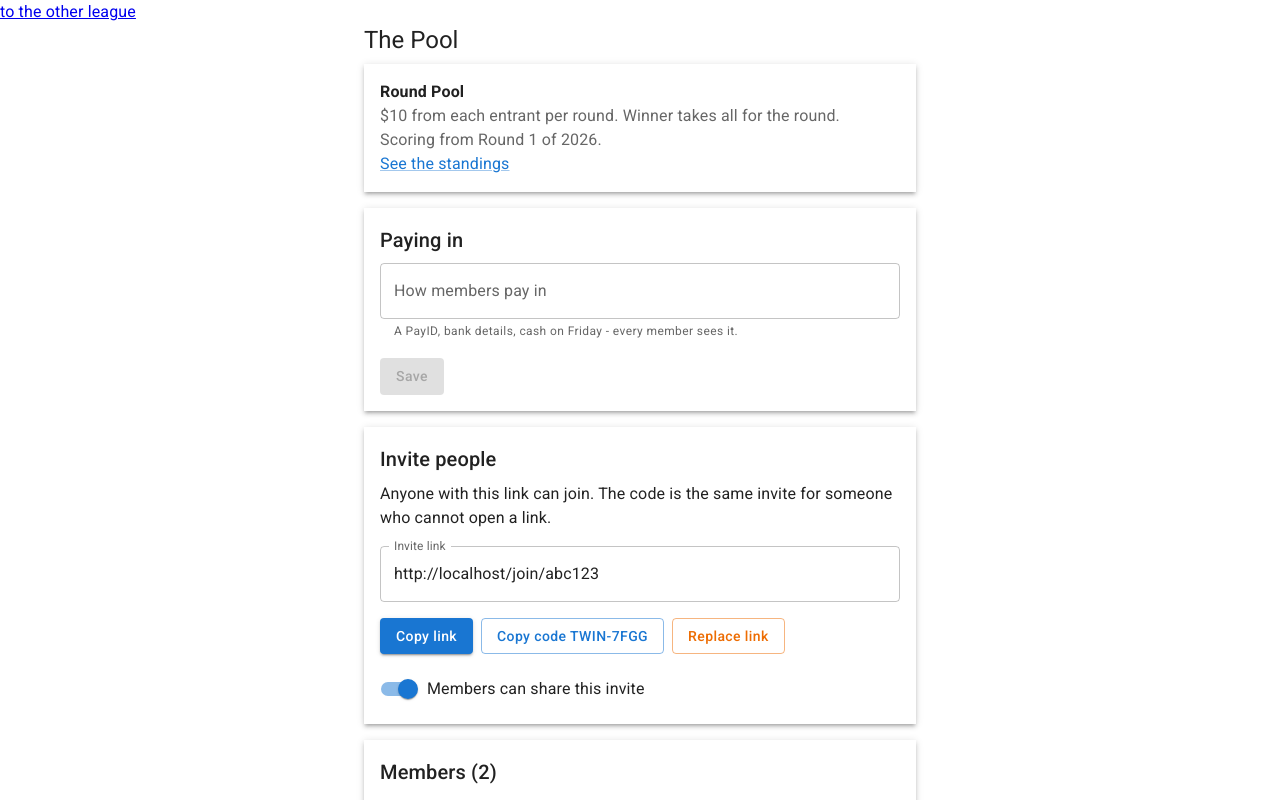
Test: replacing the invite › it asks first, saying who it stops
Click the button "Replace link". click: [728, 636]
box: [672,618,785,654]
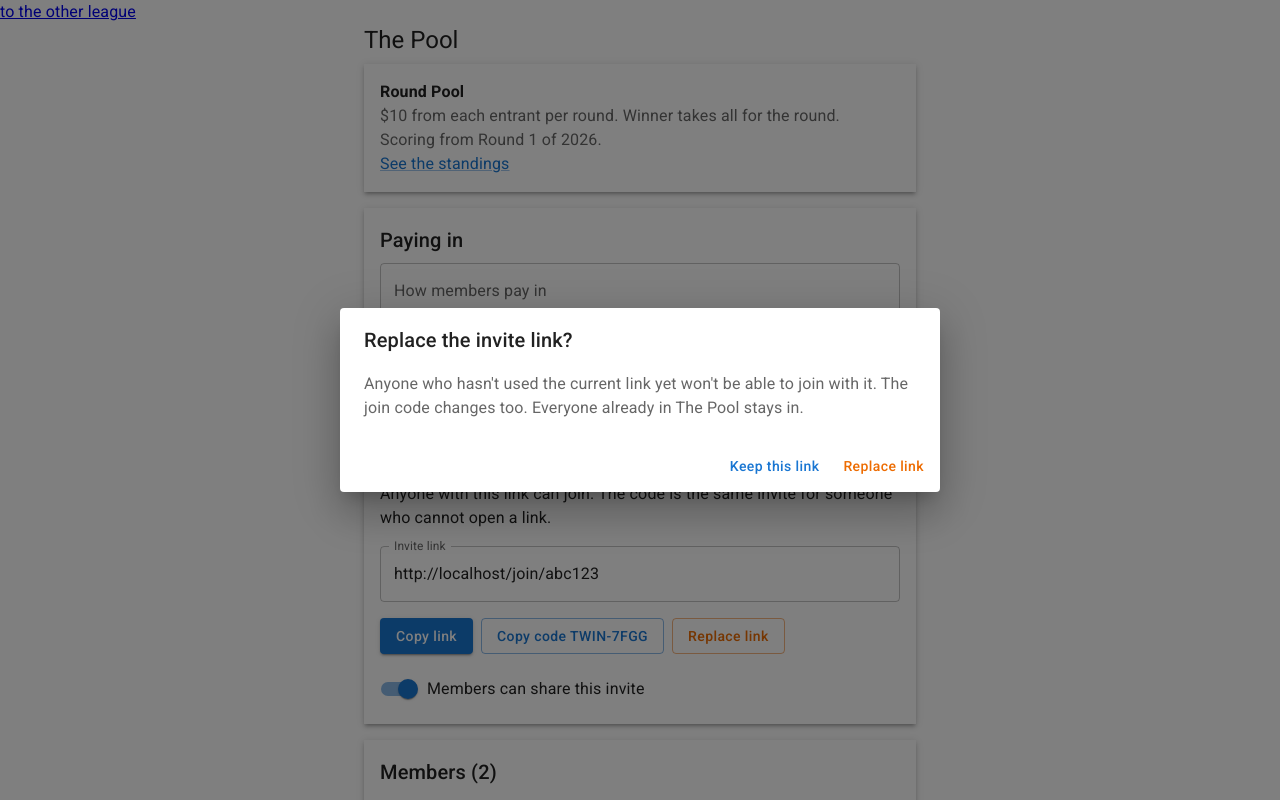
Expected: the dialog shows "Anyone who hasn.t used the current link yet won.t be able to join", [364,374,908,417]
